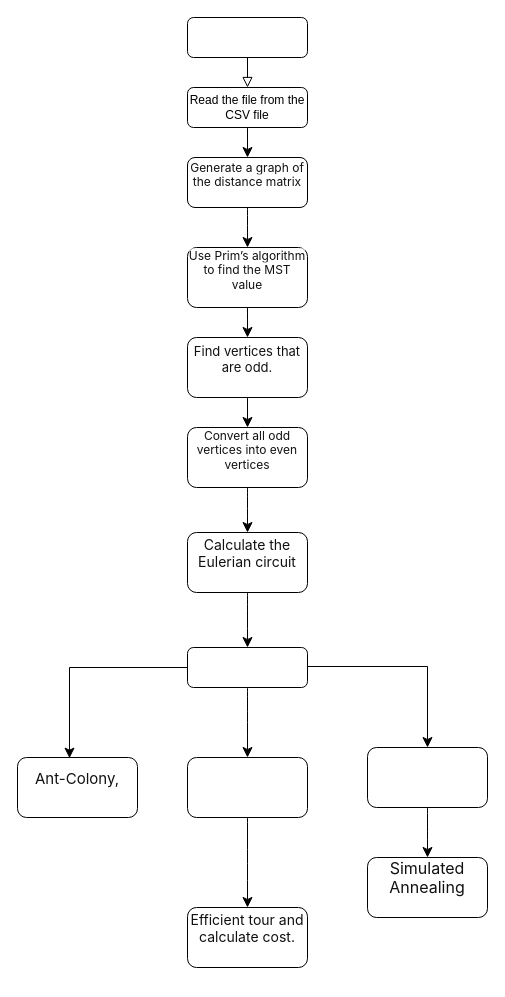
Some shapes in this 505 by 997 pixel diagram are drawn without their labels. Each missing label, with the centre of its shape:
"2-Opt" goes at (x=427, y=777).
"Find the Hamiltonian circuit" goes at (x=247, y=667).
"Random Swapping." goes at (x=247, y=787).
"Run the TSP Main" goes at (x=247, y=37).
